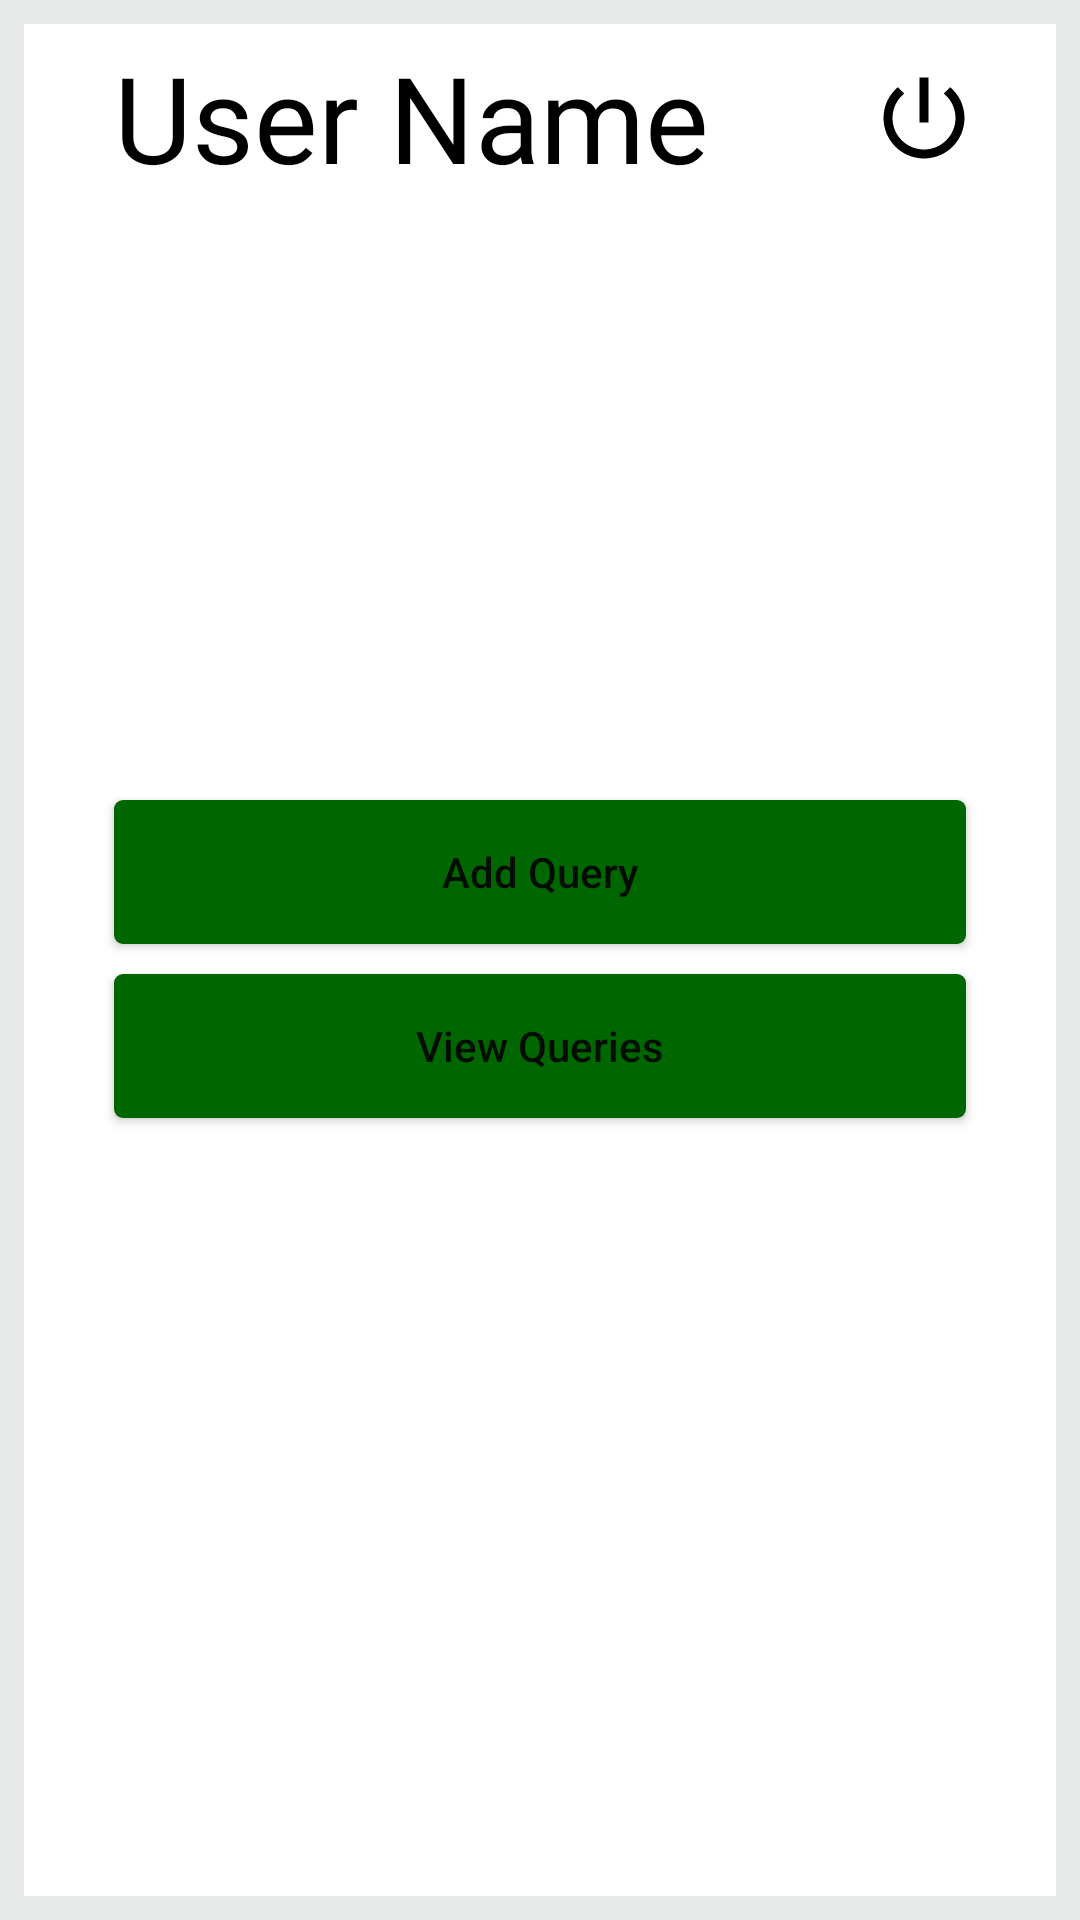

Locate icon controls on the screen. Image size 1080px×1920px, boxes as (x1, y1, x2, y2).
power settings: (883, 77, 965, 159)
